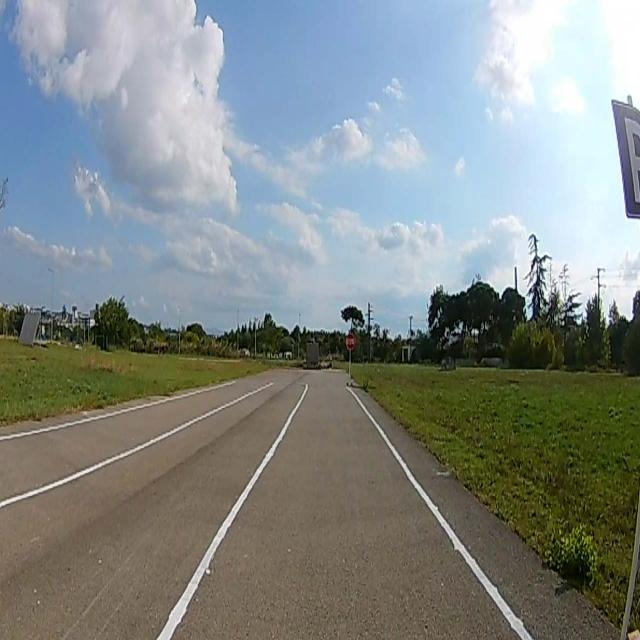park: (610, 102, 640, 217)
